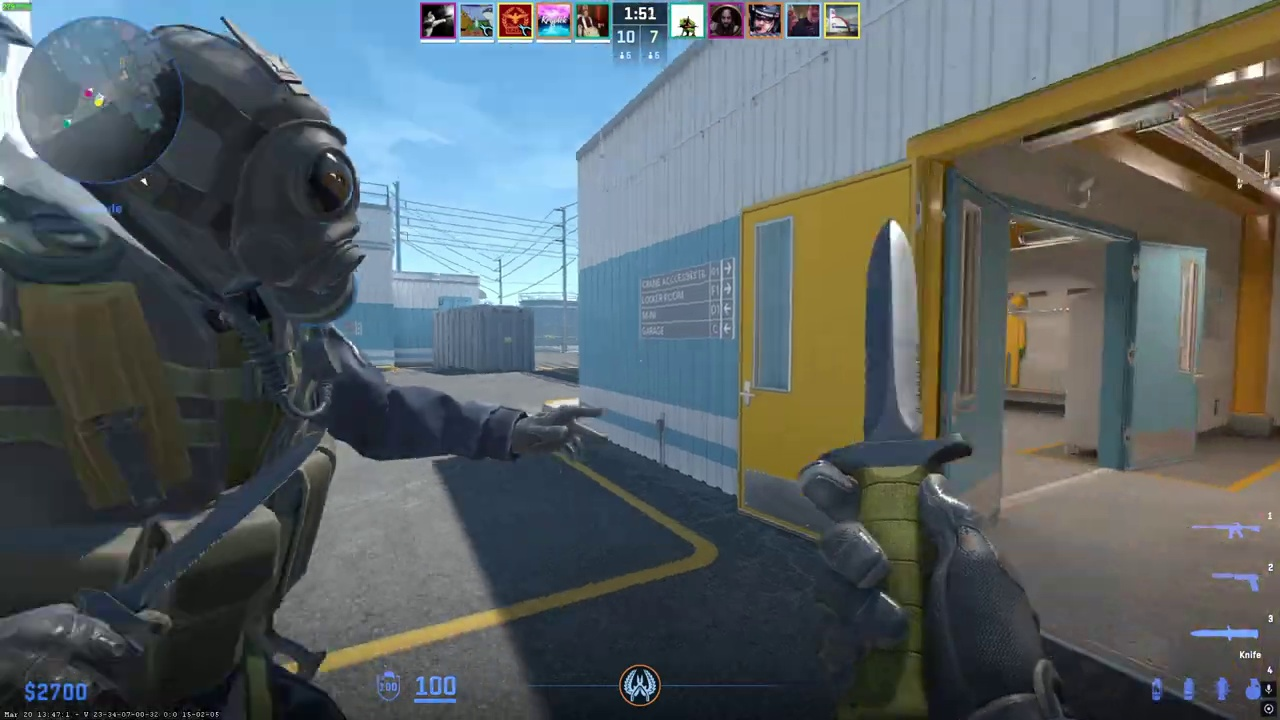CT: (0, 27, 447, 720)
